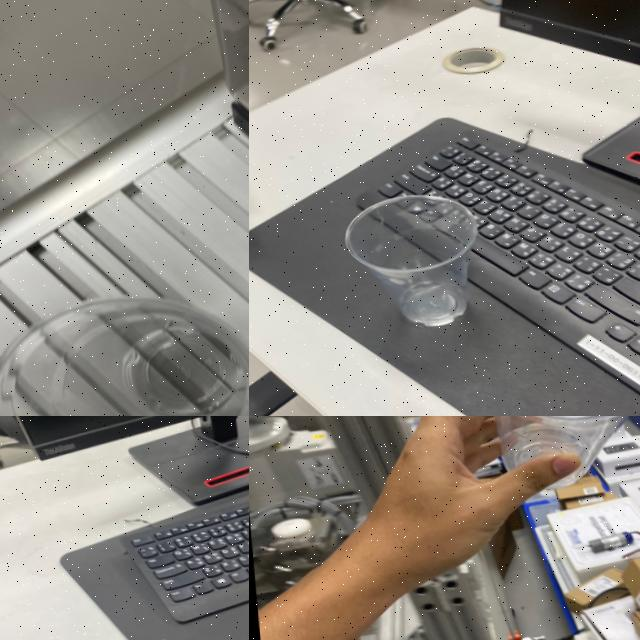glass: (0, 278, 249, 416), (334, 184, 491, 333), (462, 416, 640, 495)
